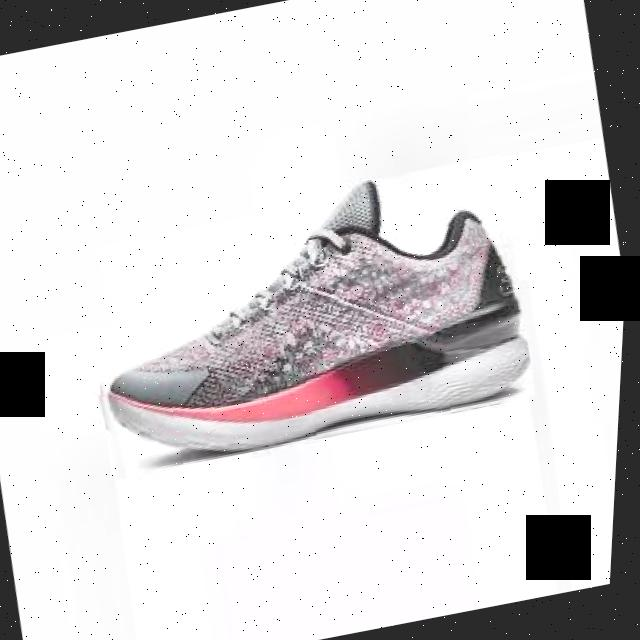shoe: (72, 158, 542, 478), (105, 176, 535, 457)
